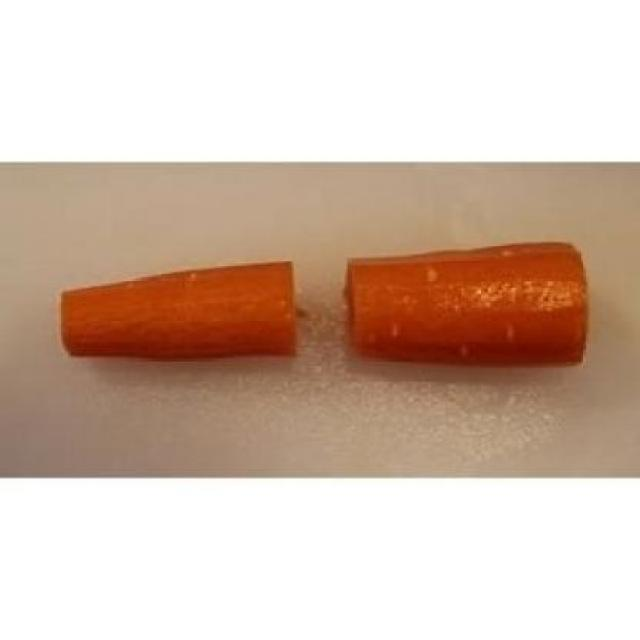carrot: (341, 233, 595, 381), (44, 246, 320, 373)
